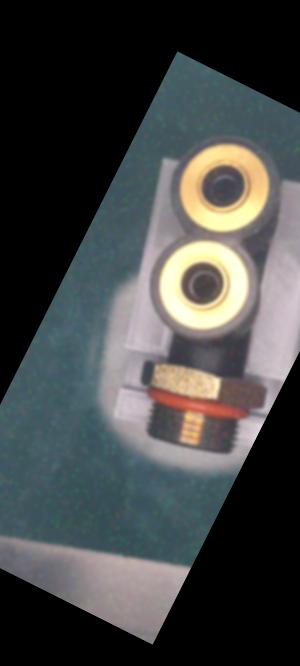white mark: (196, 359, 210, 375)
